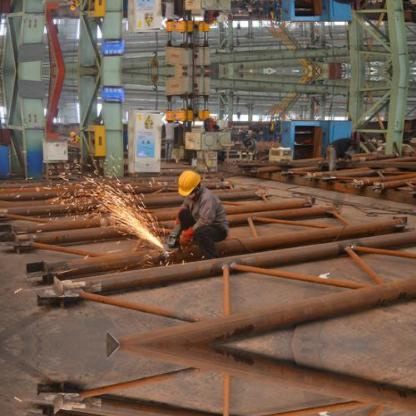Safety Helmet: (172, 169, 204, 209)
